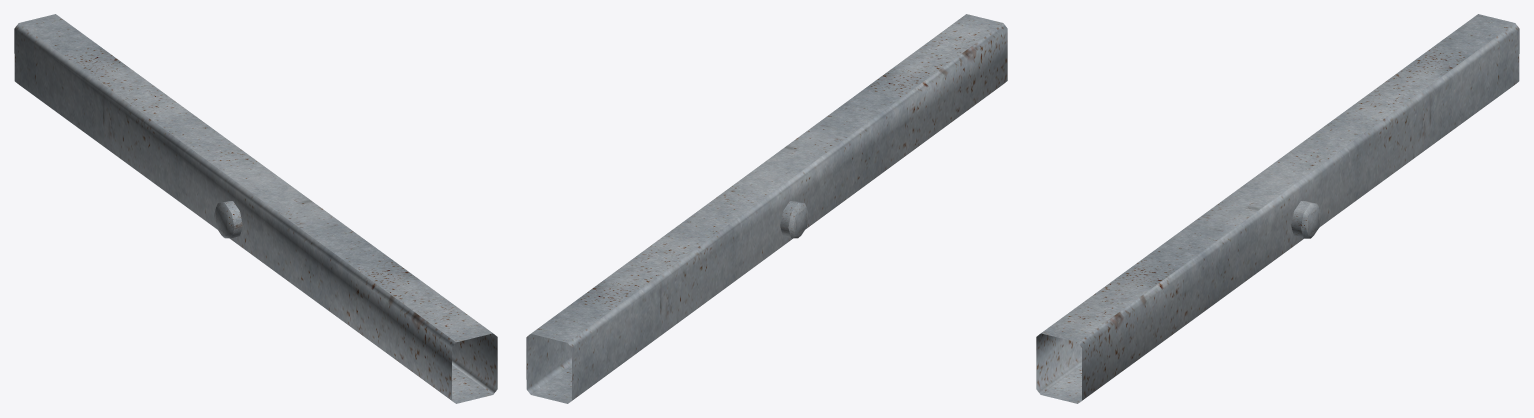
The model's file is Ob_WoodSupportMetal_RC.fbx.
The picture shows the model from 3 angles, left to right: view 1: azimuth 30°, elevation 25°; view 2: azimuth 150°, elevation 25°; view 3: azimuth 330°, elevation 25°; orthographic projection.
Parts seen in each view (by area): view 1: Ob_WoodSupportMetal_RC; view 2: Ob_WoodSupportMetal_RC; view 3: Ob_WoodSupportMetal_RC.
Boxes of the visible parts, x1=… form: Ob_WoodSupportMetal_RC: x1=14, y1=14, x2=497, y2=403; Ob_WoodSupportMetal_RC: x1=526, y1=14, x2=1007, y2=403; Ob_WoodSupportMetal_RC: x1=1036, y1=14, x2=1519, y2=403.
Bounding box in the file's own units: 71.3 × 60.69 × 771.
